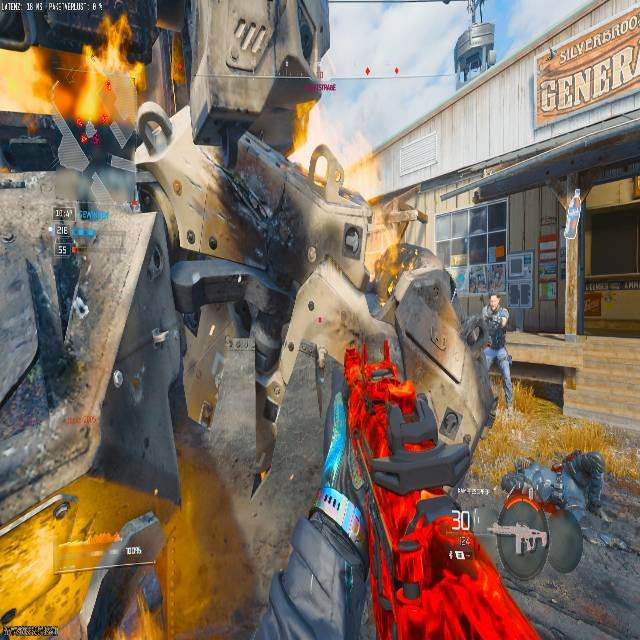head: (561, 452, 608, 505), (485, 289, 507, 312), (488, 294, 500, 310)
player: (464, 294, 513, 416), (451, 9, 496, 85)
